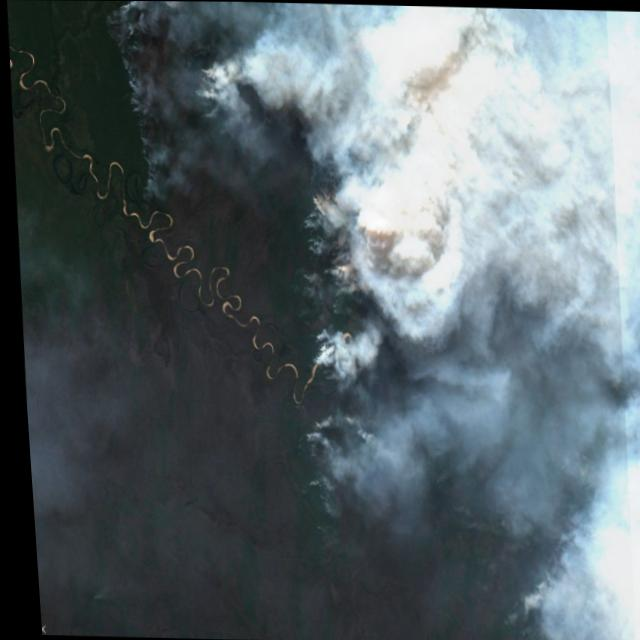fire: (99, 1, 165, 210), (286, 180, 346, 291), (293, 401, 340, 474), (305, 321, 341, 384), (192, 60, 220, 132)
